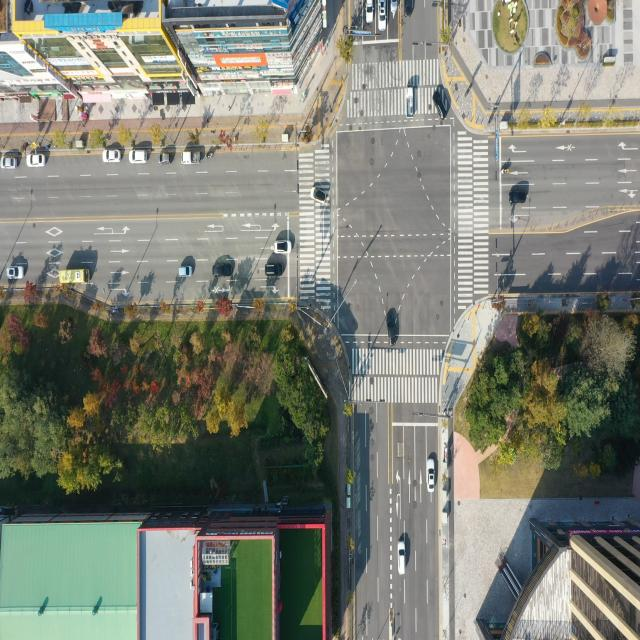car: (386, 308, 400, 347), (432, 88, 446, 120), (309, 186, 326, 205), (427, 458, 436, 492), (397, 540, 405, 576), (130, 149, 148, 164), (104, 148, 122, 163), (28, 153, 47, 167), (214, 266, 234, 279), (379, 0, 387, 32), (5, 267, 24, 280), (274, 241, 292, 254), (511, 190, 528, 203), (1, 158, 18, 171), (267, 265, 285, 277), (402, 0, 412, 20), (178, 267, 193, 280), (365, 0, 373, 24), (160, 152, 174, 164), (391, 0, 398, 16)
small_bus: (59, 268, 89, 286)
small_truck: (181, 150, 201, 166), (407, 87, 414, 117)
